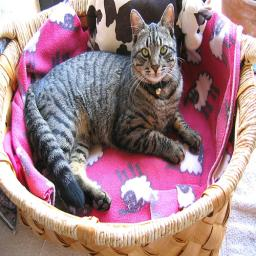catnose: (151, 64, 160, 72)
